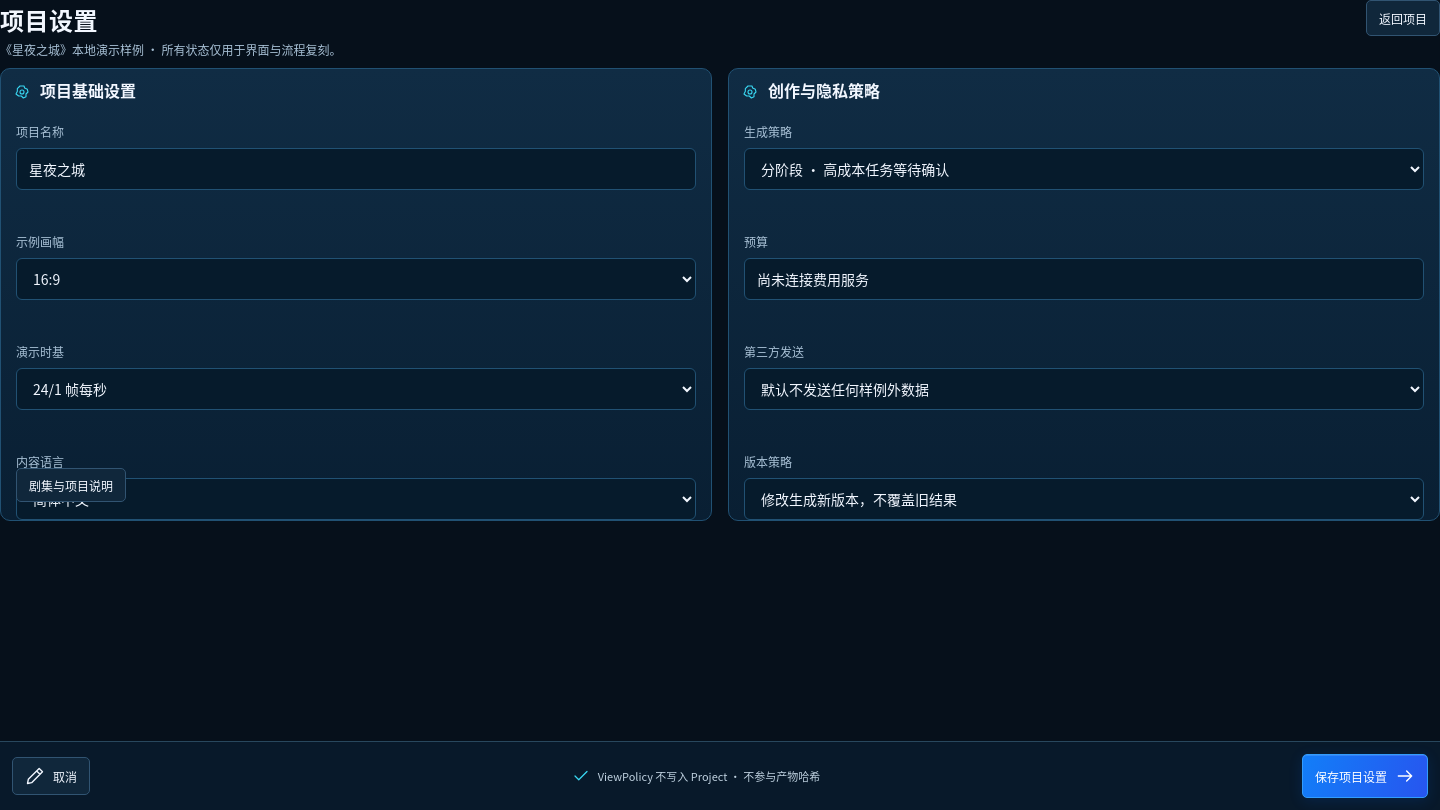
Test: user settings draft › requires an explicit local confirmation before applying project format changes
Select "9:16" in the dropdown labelled "示例画幅" at (356, 279), box [16,258,696,300]
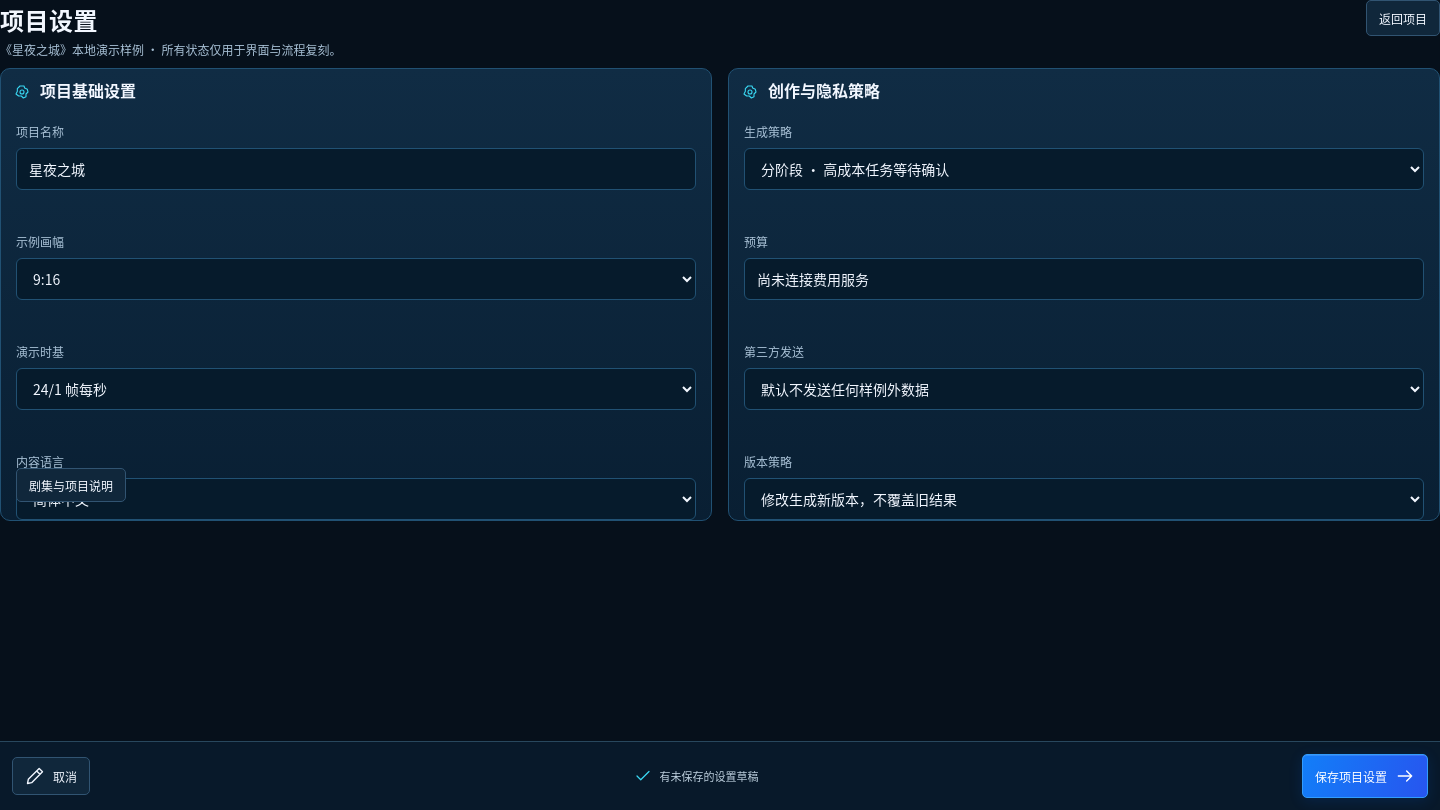
Click the button "保存项目设置" at (1365, 776), box [1302,754,1428,798]
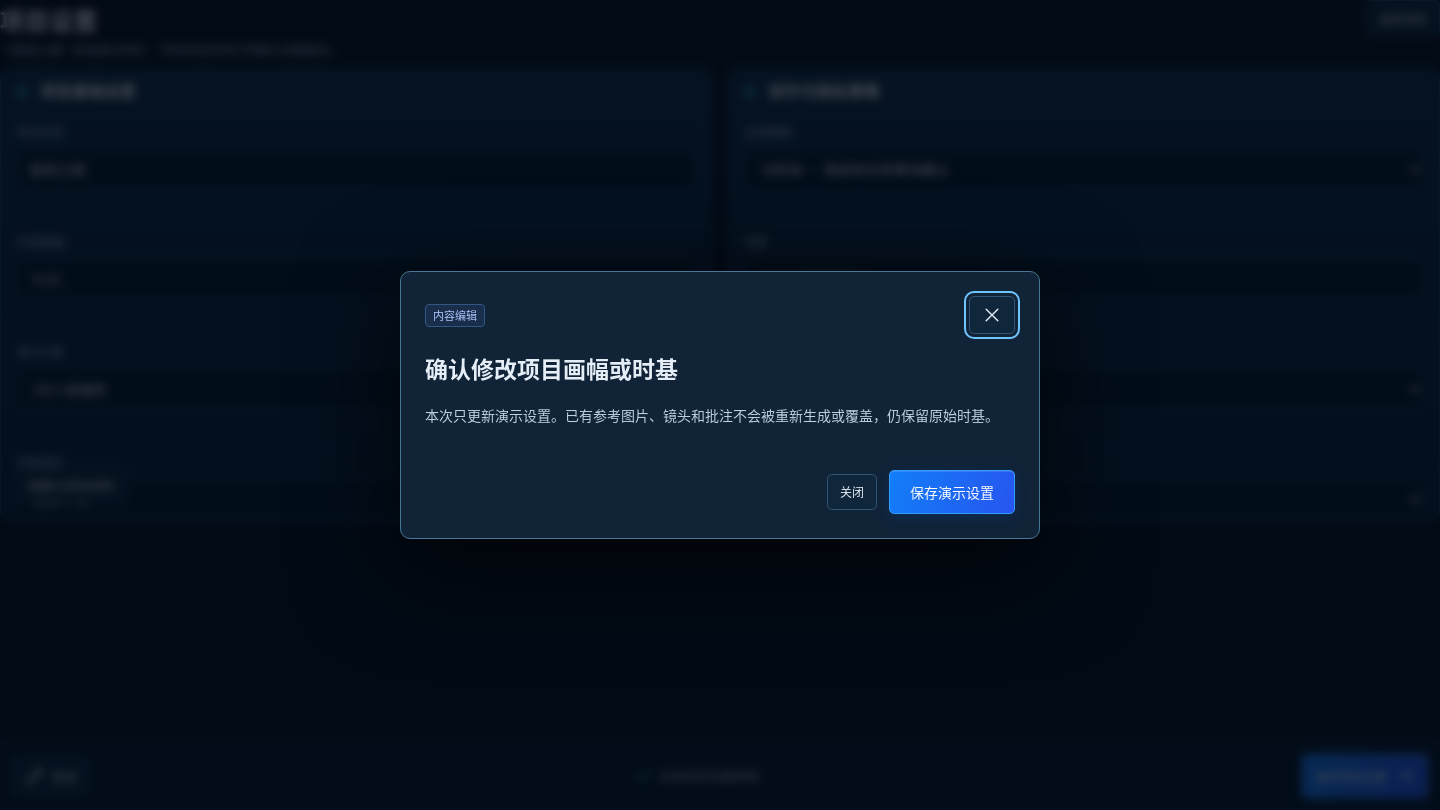
Expected: the dialog shows "确认修改项目画幅或时基", [425,351,678,385]
Click the button "保存演示设置" at (952, 492), box [889,470,1015,514]
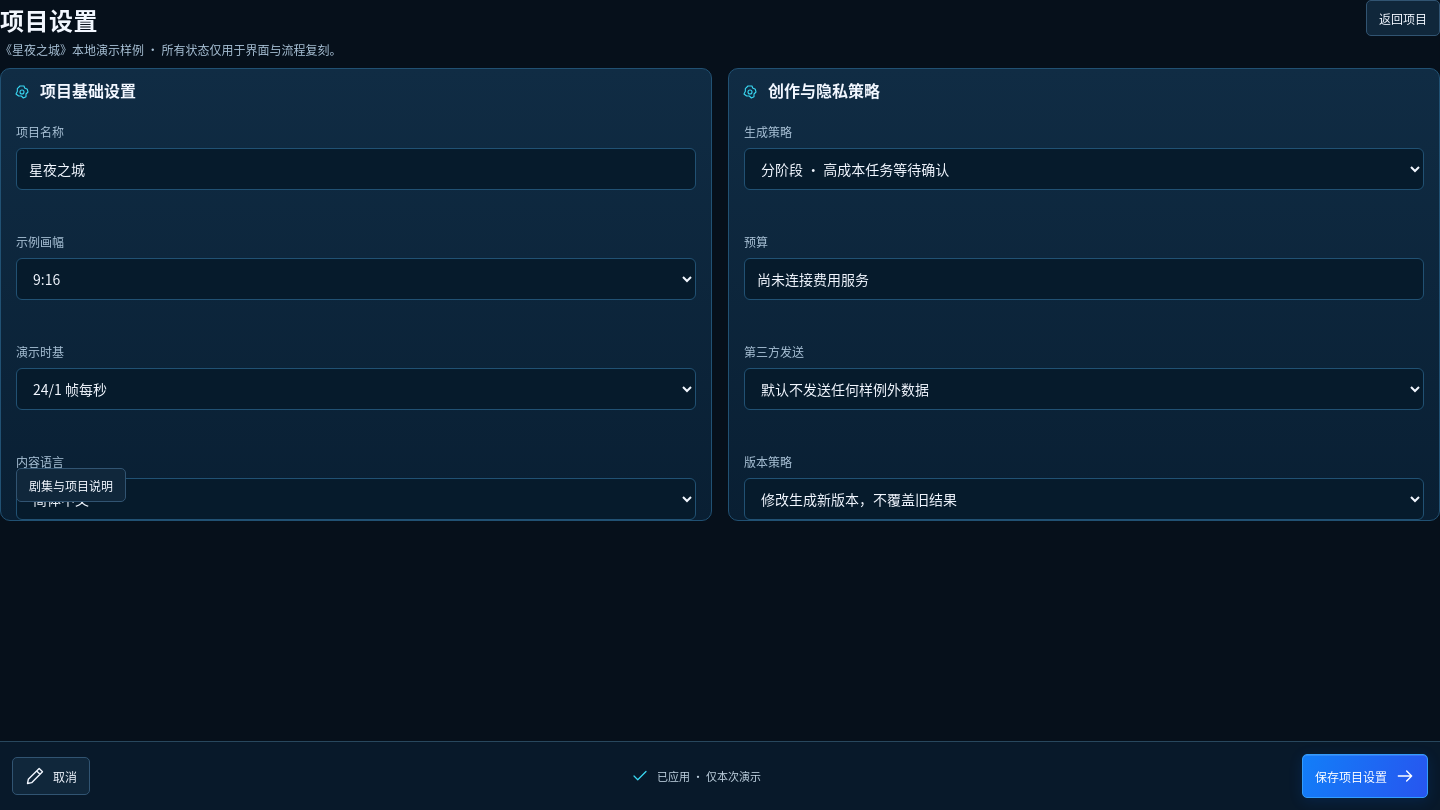
Expected: the text "已应用 · 仅本次演示" is shown, [631,767,761,785]
